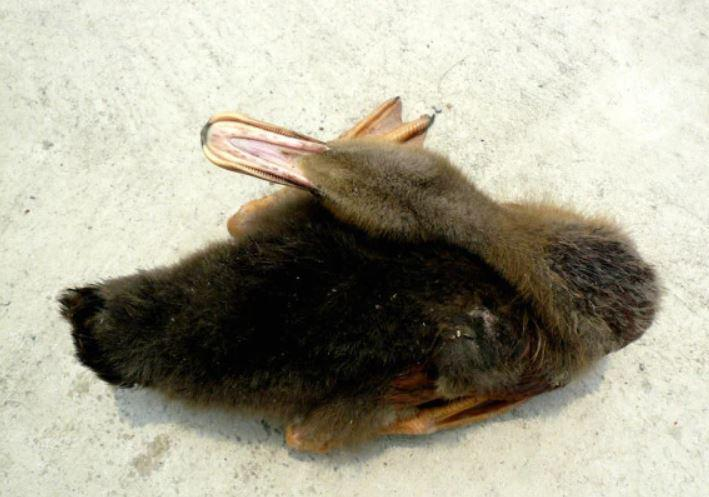AbNormal: (62, 93, 663, 455)
